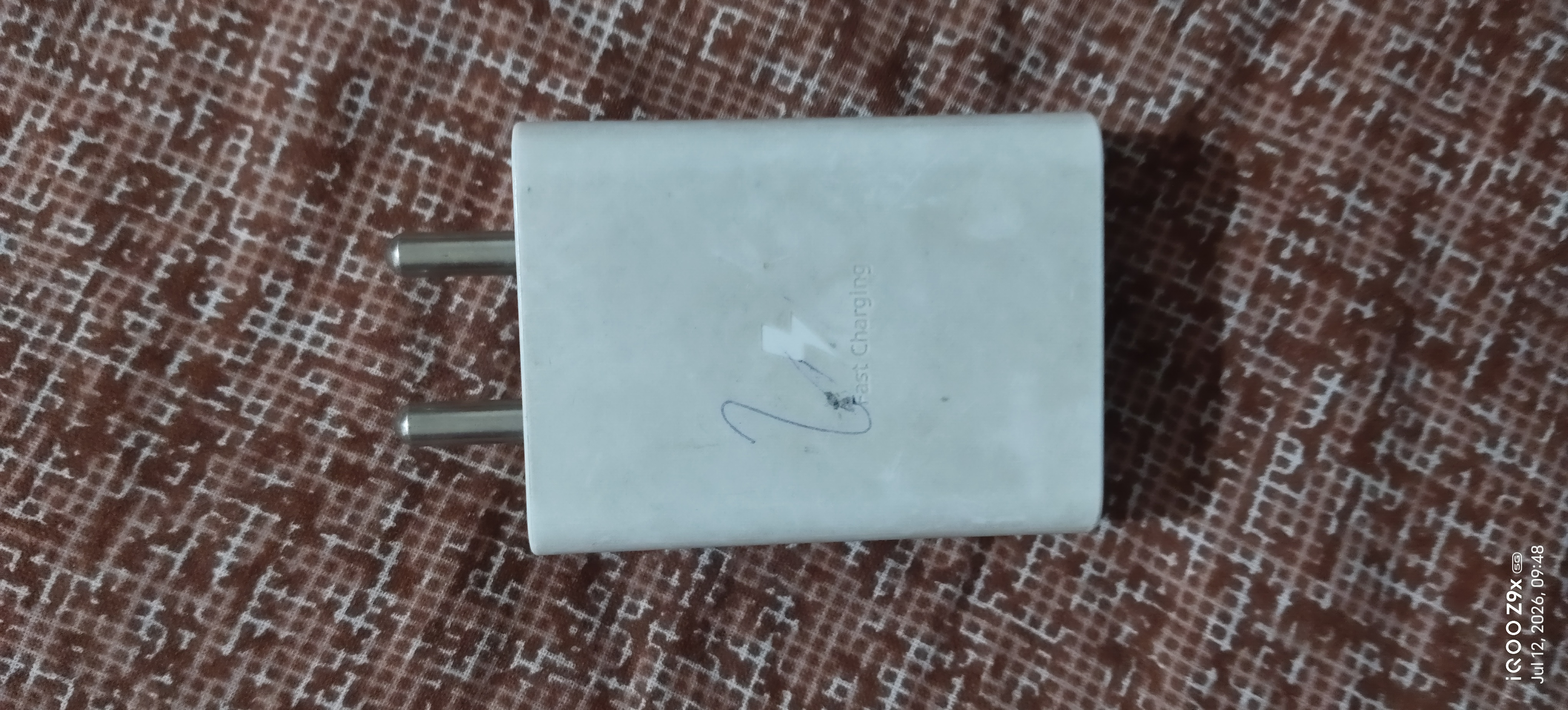charger: (360, 99, 1156, 573)
